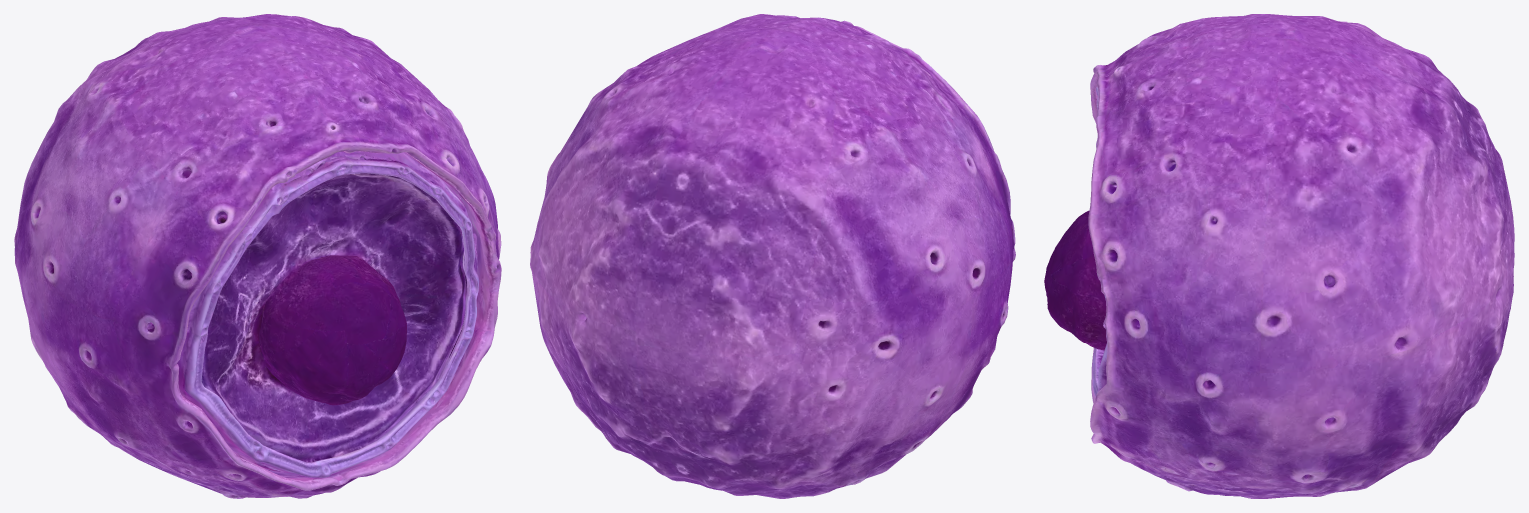
File: nucleus.glb
The picture shows the model from 3 angles, left to right: view 1: azimuth 30°, elevation 25°; view 2: azimuth 150°, elevation 25°; view 3: azimuth 270°, elevation 25°; orthographic projection. The views are drawn at different scales.
Parts seen in each view (by area): view 1: mesh_node; view 2: mesh_node; view 3: mesh_node.
Boxes of the visible parts, x1=… form: mesh_node: x1=14, y1=14, x2=501, y2=498; mesh_node: x1=530, y1=14, x2=1015, y2=498; mesh_node: x1=1044, y1=14, x2=1514, y2=498.
Bounding box in the file's own units: 1.87 × 1.89 × 1.79.
Materials: 1 (1 with a texture image).
